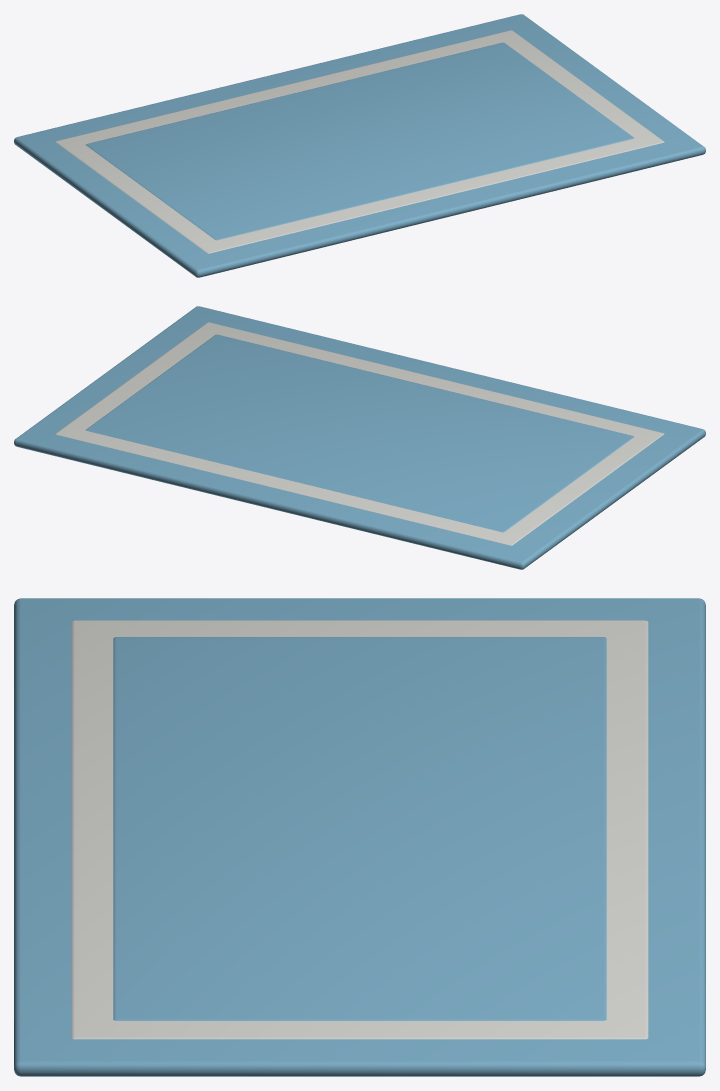
The model's file is bath_mat.glb.
3 renders of one model, top to bottom at view 1: azimuth 30°, elevation 25°; view 2: azimuth 150°, elevation 25°; view 3: azimuth 270°, elevation 25°, orthographic. The views are drawn at different scales.
Parts seen in each view (by area): view 1: bath_mat; view 2: bath_mat; view 3: bath_mat.
Boxes of the visible parts, x1,y1,x2,y2 form: bath_mat: [14, 14, 705, 277]; bath_mat: [14, 306, 705, 569]; bath_mat: [14, 598, 705, 1076].
Size of the model in its own units: 0.8 by 0.0135 by 0.5.
